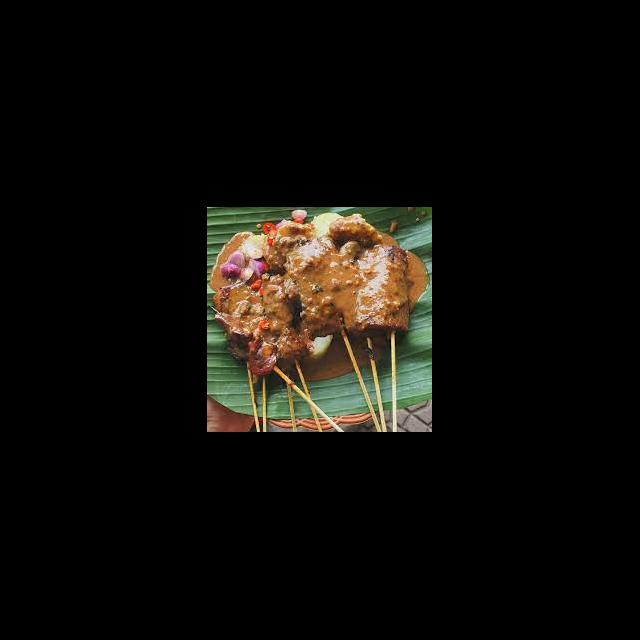food_waste: (218, 234, 414, 339)
